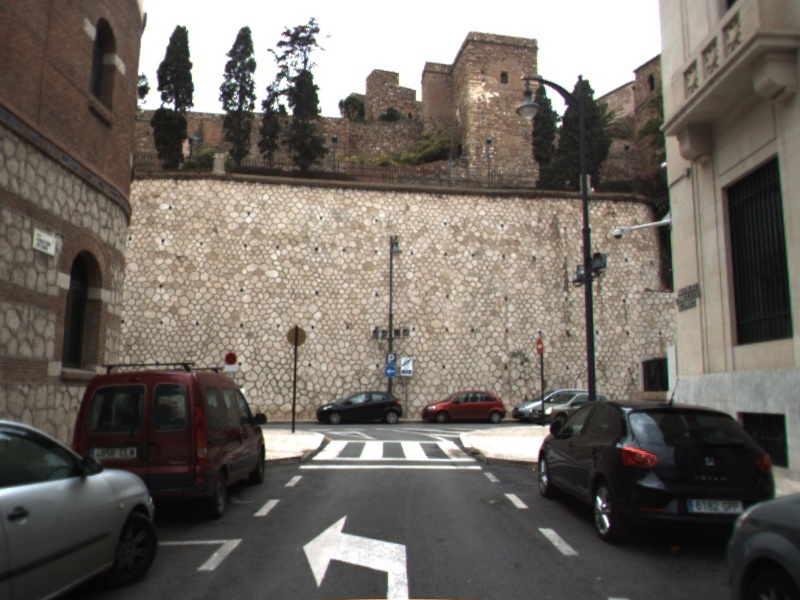LEFT: (300, 509, 411, 600)
